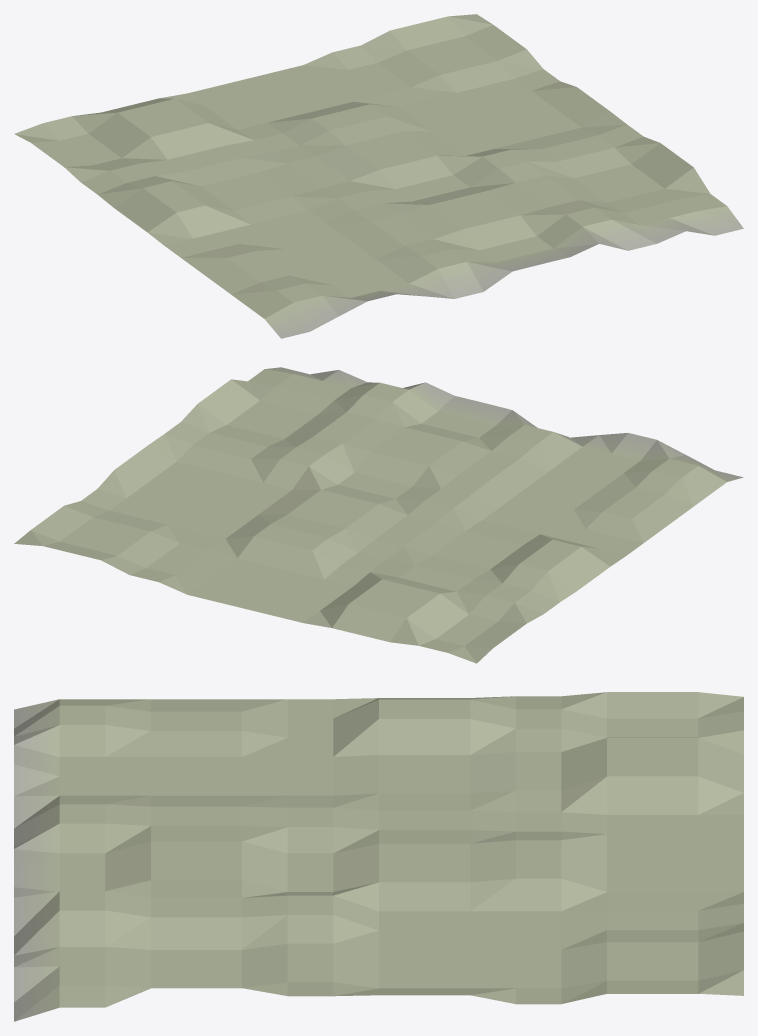
The picture shows the model from 3 angles, top to bottom: view 1: azimuth 30°, elevation 25°; view 2: azimuth 150°, elevation 25°; view 3: azimuth 270°, elevation 25°; orthographic projection. The views are drawn at different scales.
Size of the model in its own units: 32 by 1.65 by 32.
